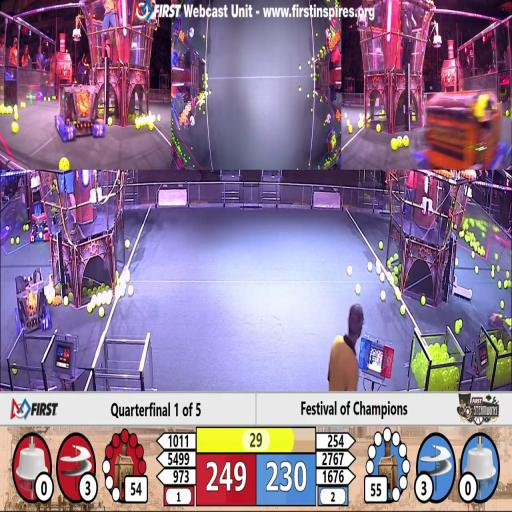robot: (411, 91, 509, 168), (54, 83, 105, 143), (14, 268, 52, 337), (30, 220, 50, 244), (325, 125, 337, 153), (494, 228, 510, 247), (325, 24, 337, 48), (26, 88, 43, 102), (31, 210, 47, 221), (330, 9, 338, 28)
